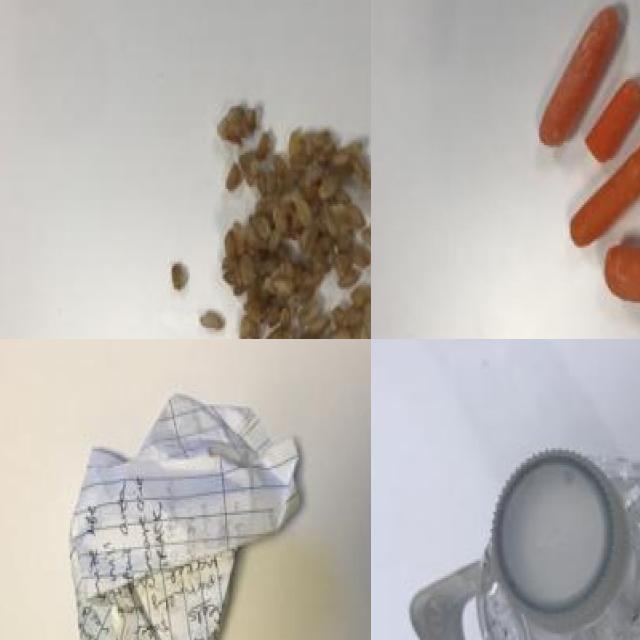compost: (132, 74, 371, 339), (525, 0, 640, 339)
paper: (68, 393, 319, 640)
plastic: (405, 440, 640, 640)
